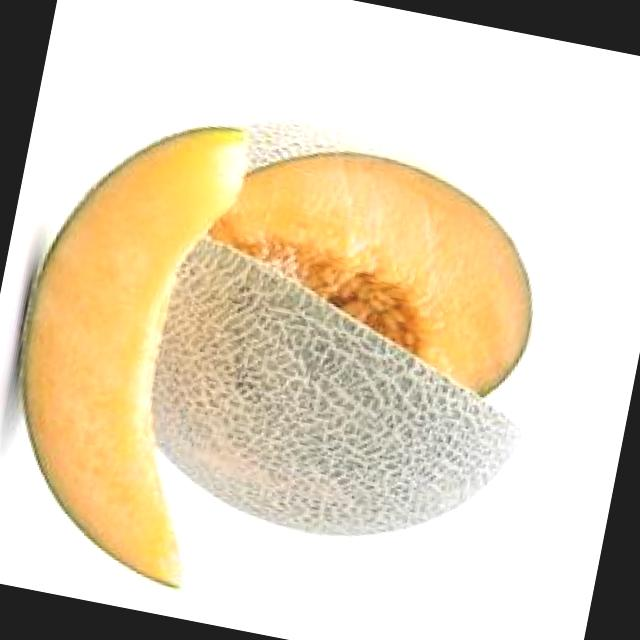cantaloupe: (177, 110, 573, 570), (0, 89, 268, 588)
